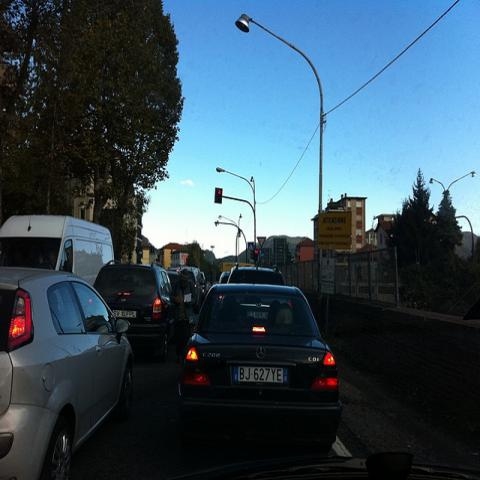car: (0, 267, 139, 479), (178, 284, 344, 457), (94, 260, 175, 360), (166, 265, 204, 317), (228, 262, 286, 284), (200, 272, 206, 298), (219, 270, 230, 284)
truck: (0, 215, 115, 285)
